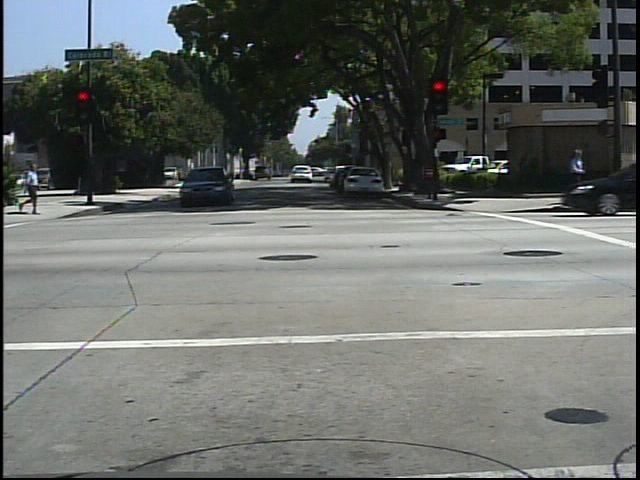person: (561, 143, 593, 196), (20, 157, 43, 221)
